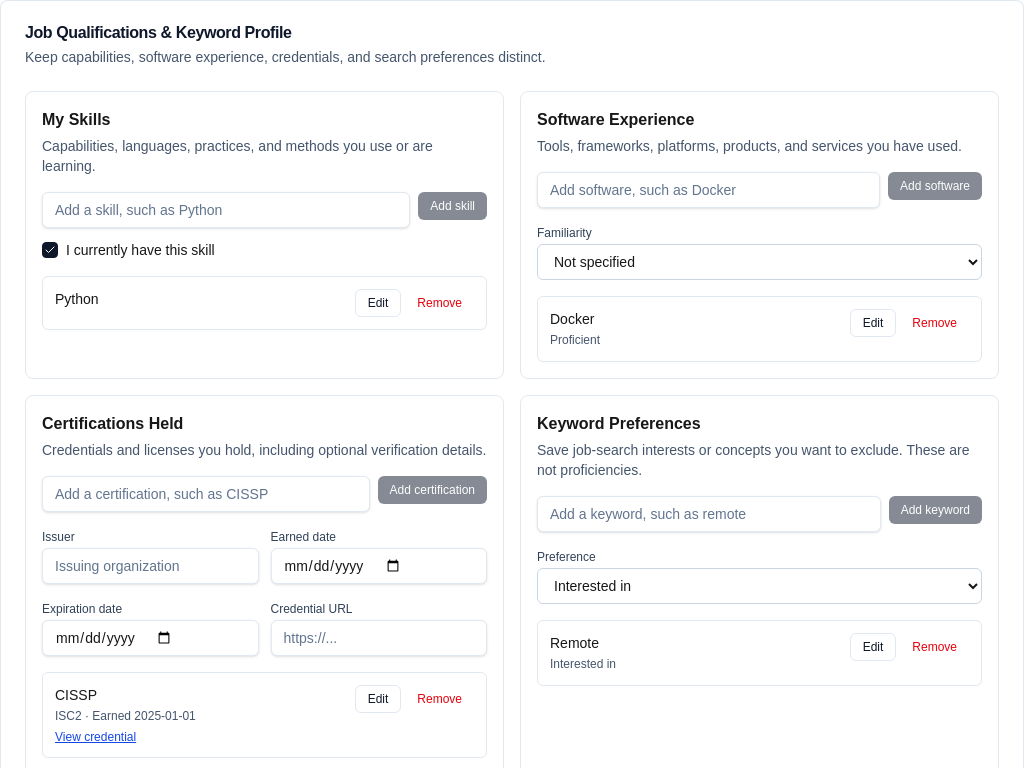
Test: TaxonomyProfileSettings › adds an existing catalog skill by ID and blocks a same-category duplicate
Type "TypeScript" into the field named "Add skill".
click(226, 210); type("TypeScript")  # box [42,192,410,228]
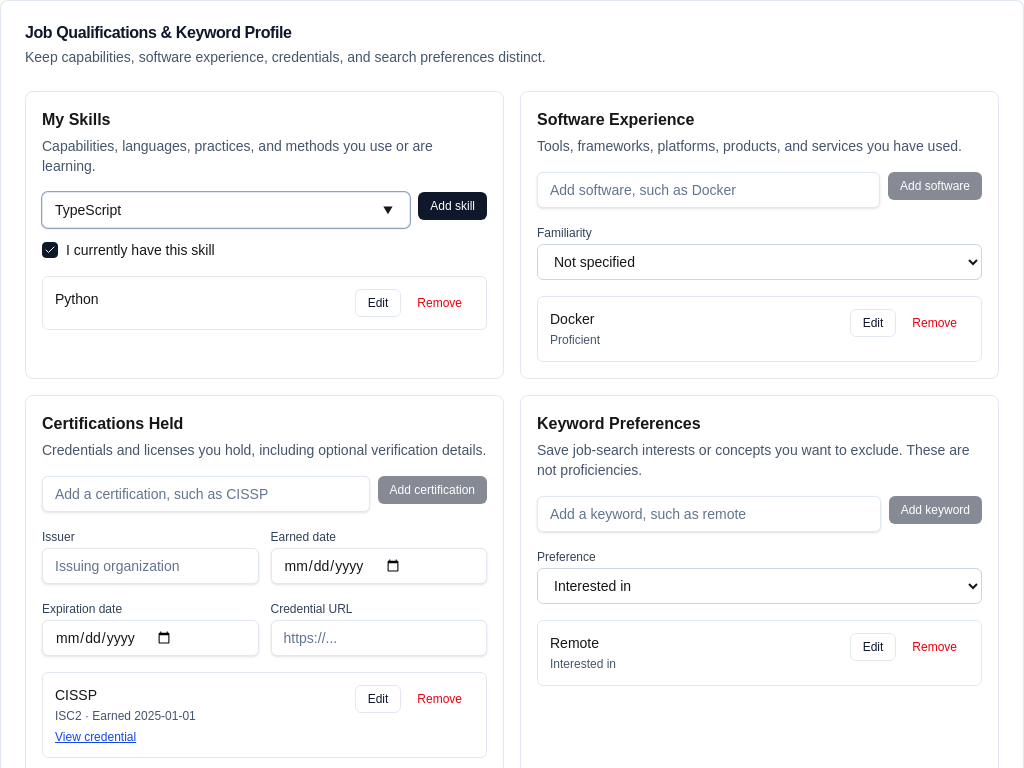
Click the button "Add skill".
click(453, 206)  # box [418,192,487,220]
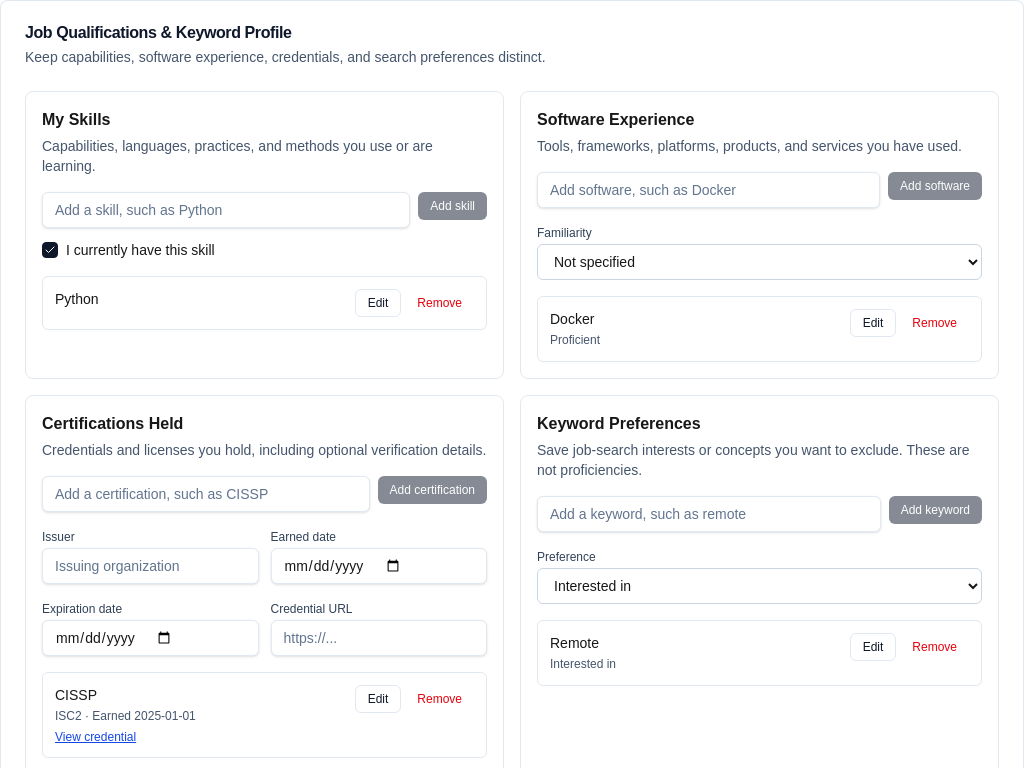
Type "PYTHON" into the field named "Add skill".
click(226, 210); type("PYTHON")  # box [42,192,410,228]
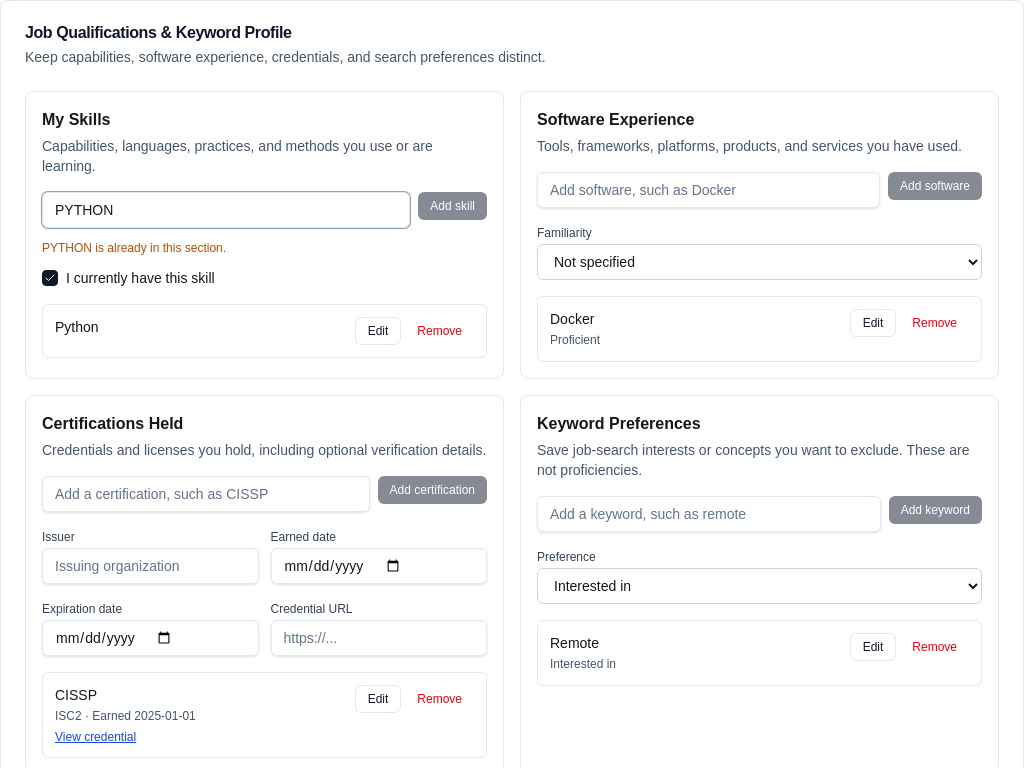
Now the button "Add skill" is disabled, box [418,192,487,220]
Now the text "PYTHON is already in this section." is shown, box [42,241,226,255]
